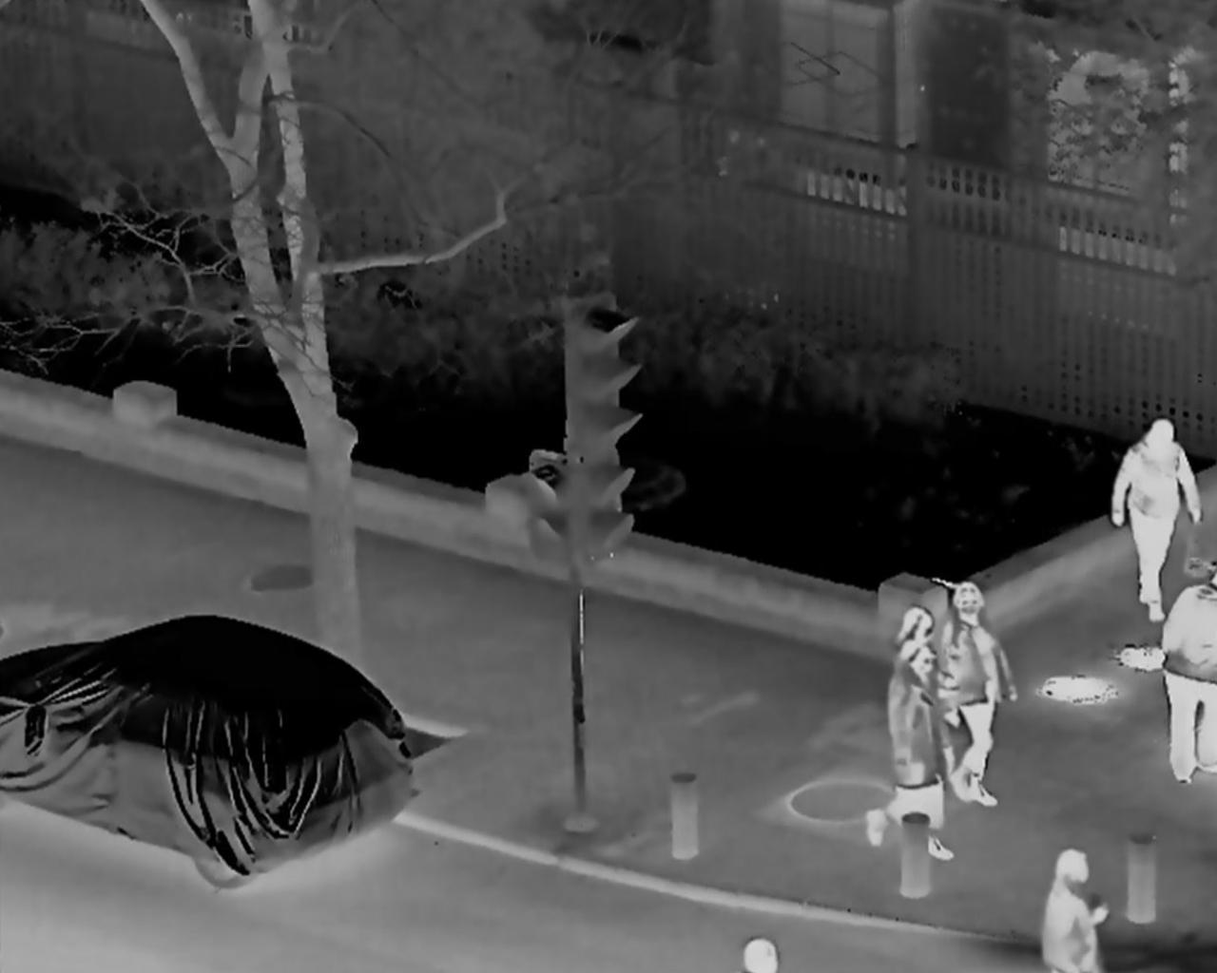person: (869, 652, 959, 853), (881, 608, 965, 814), (1108, 418, 1185, 622), (939, 586, 1006, 811), (1158, 563, 1217, 779), (1033, 850, 1110, 971)
